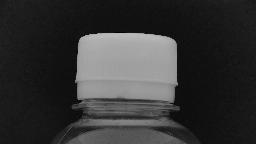Good Cap: (68, 29, 182, 115)
